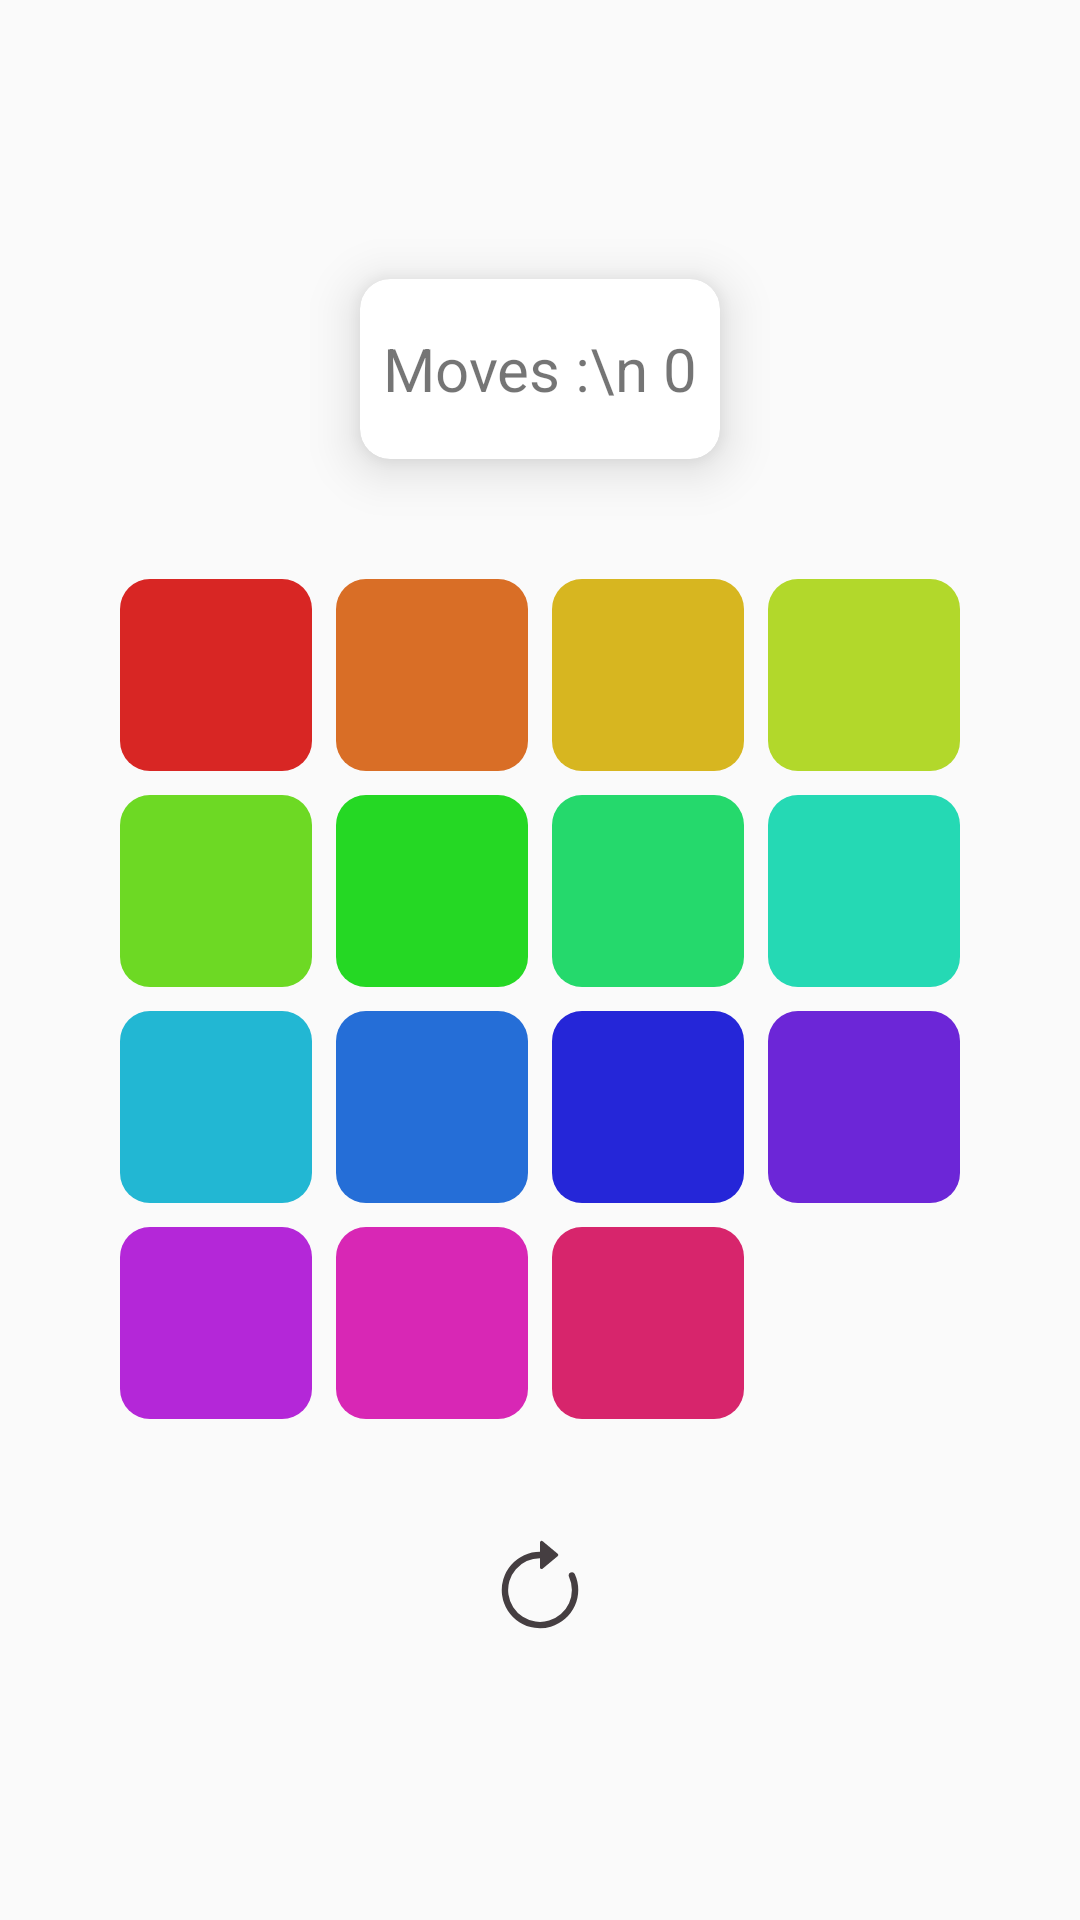

Point at icon controls on the screen. Image size 1080*1920, points as (x=x, y=y).
refresh: (x=540, y=1584)
